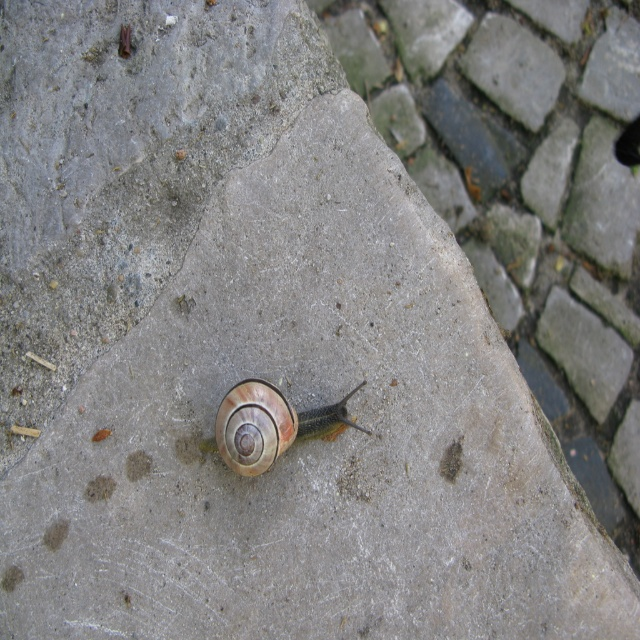Snail: (214, 379, 374, 484)
